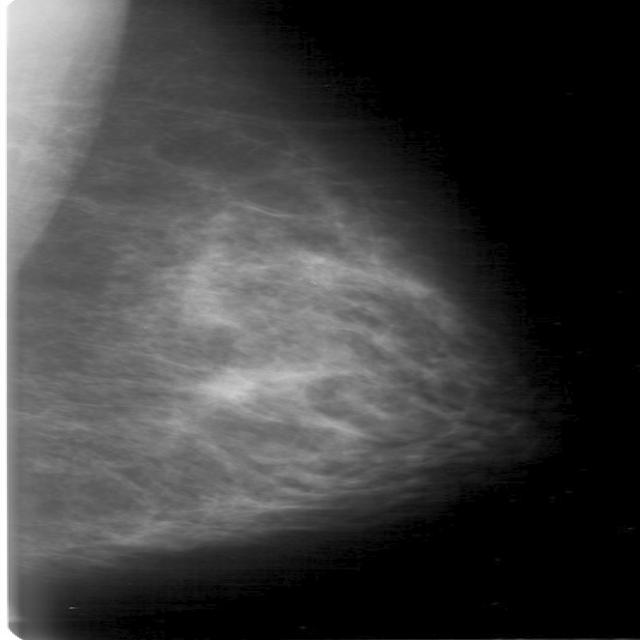tumour: (190, 367, 254, 403)
